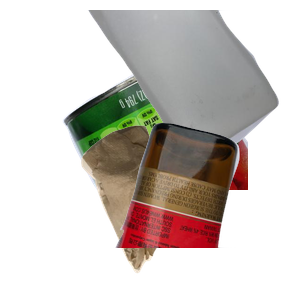glass: (113, 120, 300, 300)
metal: (60, 48, 300, 228)
plastic: (84, 10, 300, 157)
trash: (79, 123, 281, 300)
